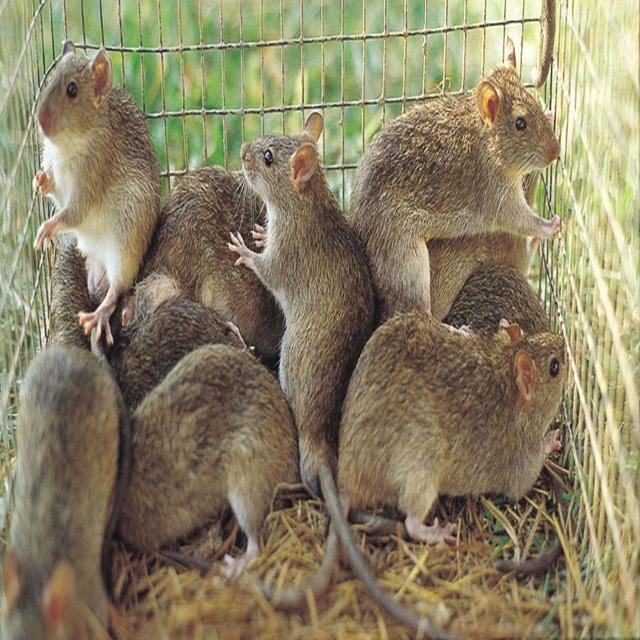rat: (230, 110, 358, 450), (343, 317, 572, 505), (358, 37, 560, 245), (28, 41, 158, 293)
